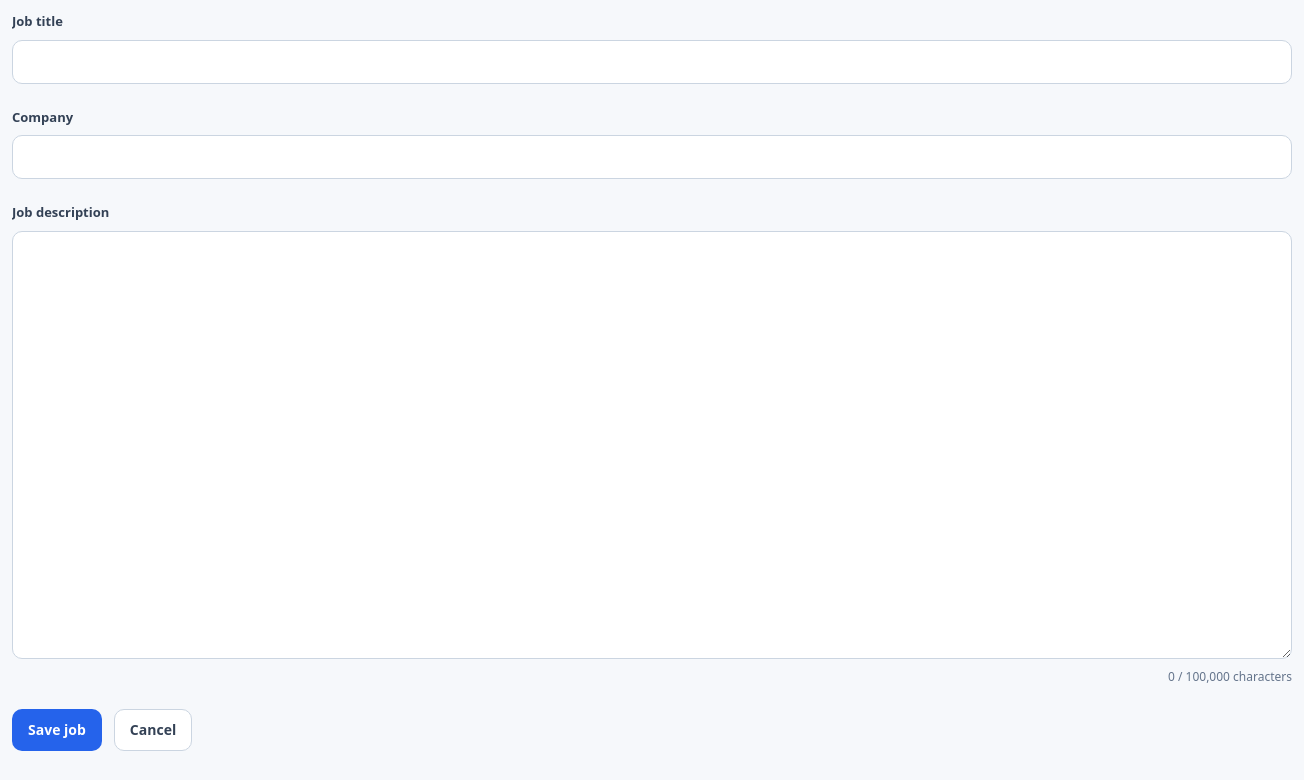
JobEditor › preserves entered values and shows a sanitized API error
Type "Data Engineer" into the field labelled "Job title" at (652, 62), box [12,40,1292,84]
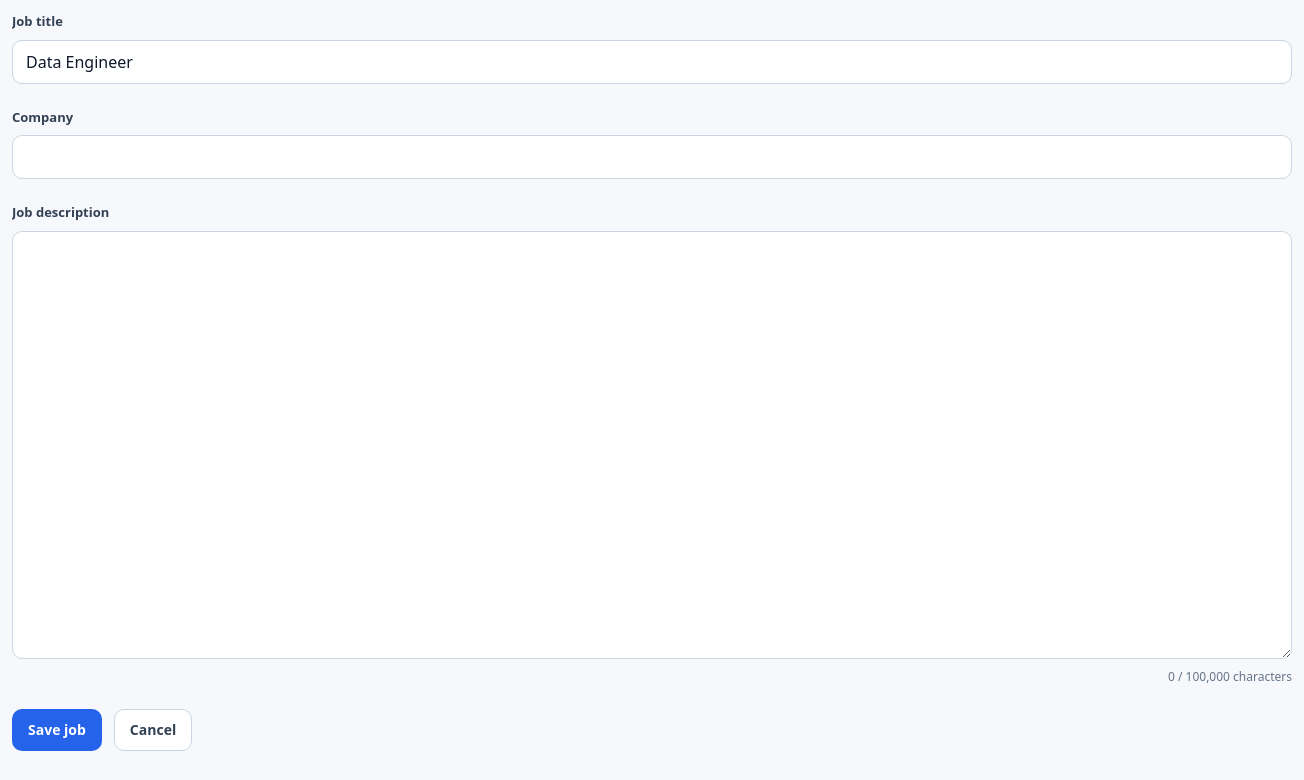
Type "Keep this text after failure." into the text box labelled "Job description" at (652, 444), box [12,230,1292,658]
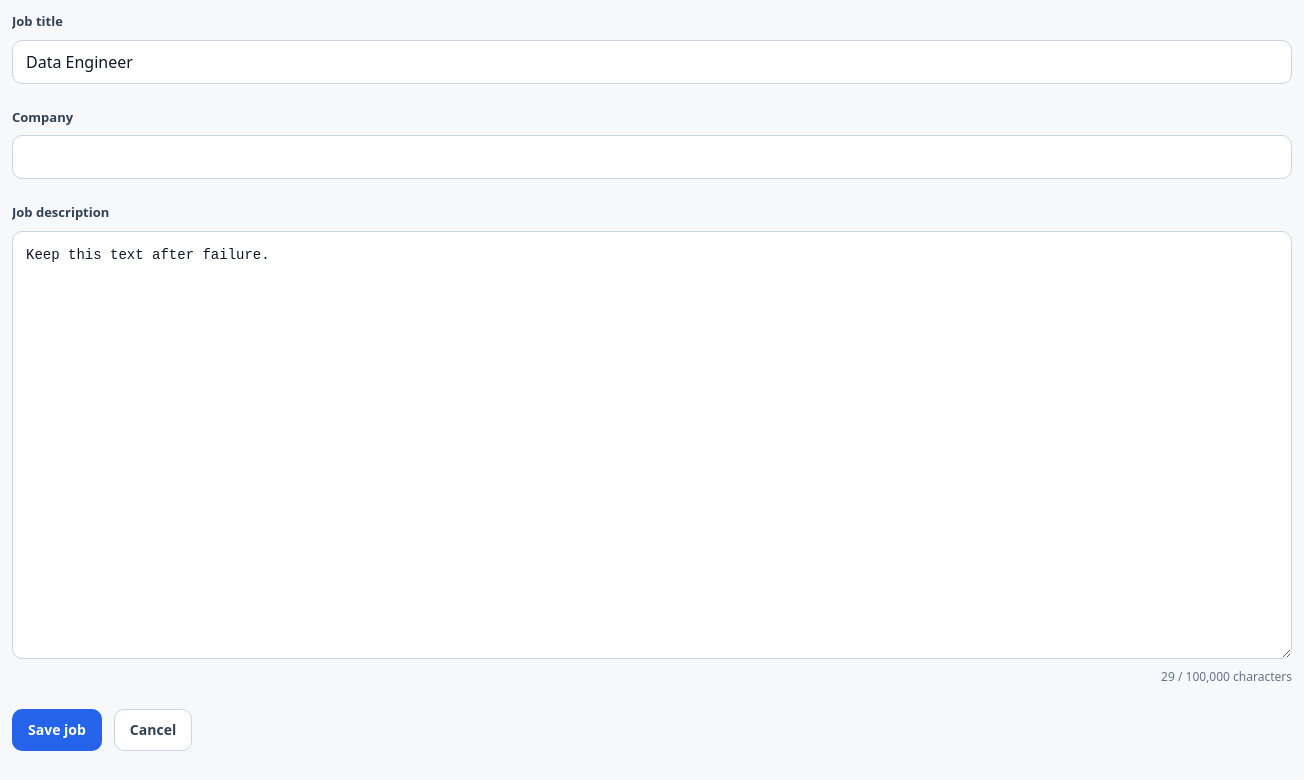
Click the button "Save job" at (57, 730), box [12,708,102,750]
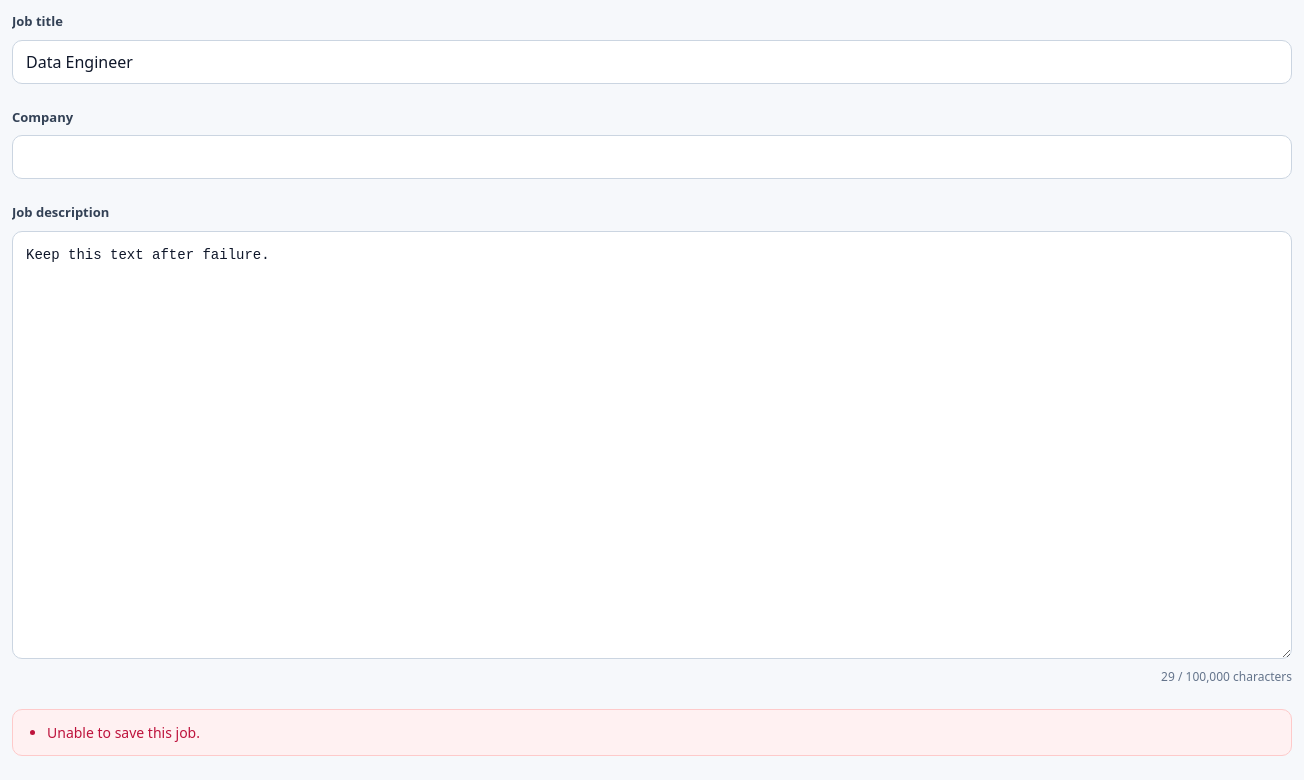
Expected: the message reads "Unable to save this job.", [47,722,200,742]
